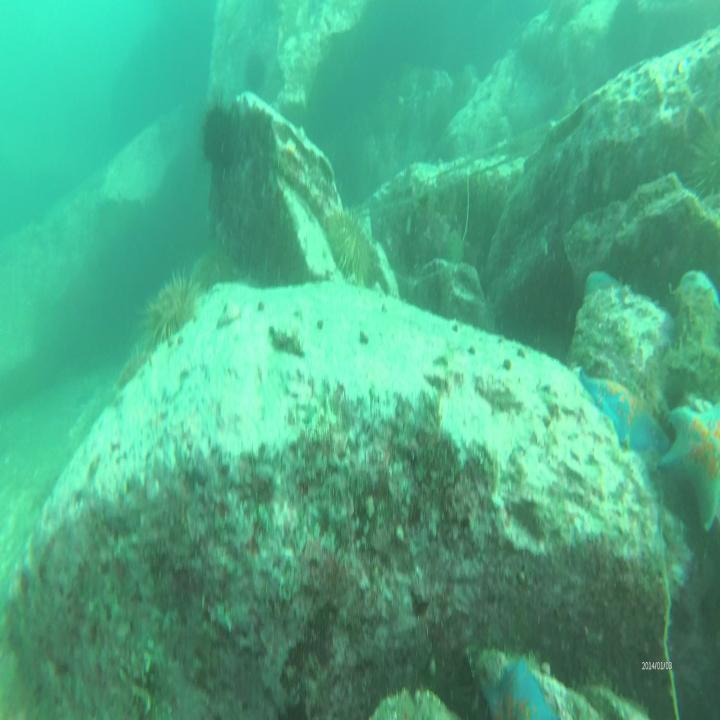echinus: (324, 204, 376, 281), (149, 268, 197, 342), (198, 90, 241, 172), (686, 106, 720, 201)
starfish: (580, 358, 670, 458), (663, 401, 720, 531), (471, 649, 575, 720), (678, 266, 719, 314)
